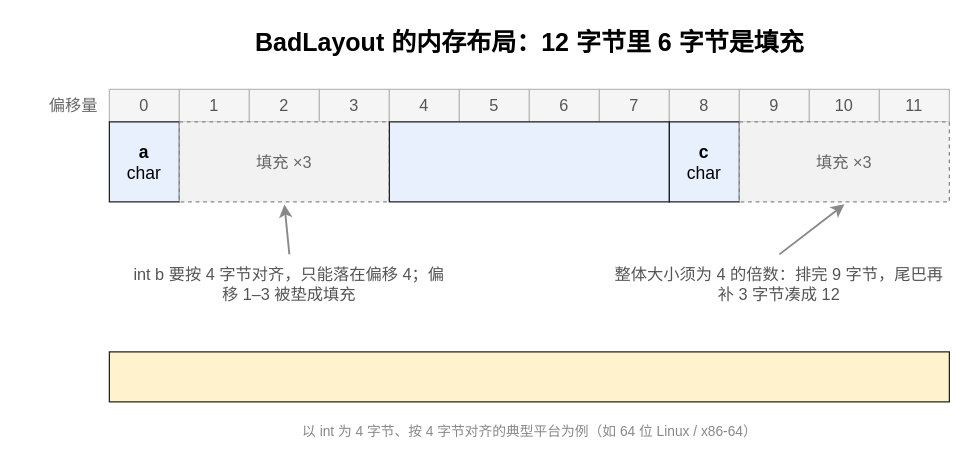
Image size: 971x465. Some labels were removed from this diagram. Here are the shapes that lost their labels. From the top down, the centre of each, then its label:
At point 528,161: "b int（4 字节）".
At point 528,376: "成员合计 6 字节 + 填充 6 字节 = sizeof(BadLayout) = 12".
